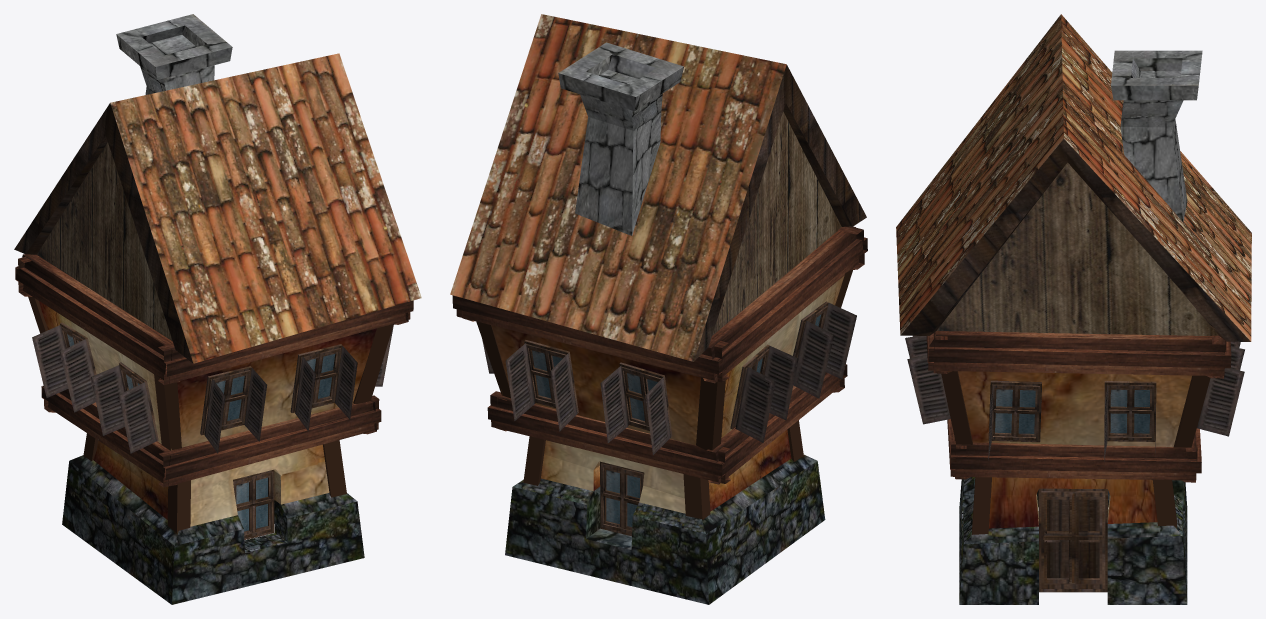
Rendered from HutHouse.fbx.
3 views of the same model, side by side, from view 1: azimuth 30°, elevation 25°; view 2: azimuth 150°, elevation 25°; view 3: azimuth 270°, elevation 25° (orthographic). The views are drawn at different scales.
Parts seen in each view (by area): view 1: HutHouse; view 2: HutHouse; view 3: HutHouse.
Boxes of the visible parts, x1,y1,x2,y2 form: HutHouse: (14, 14, 421, 604); HutHouse: (450, 14, 867, 604); HutHouse: (896, 14, 1251, 604).
Bounding box in the file's own units: 2565 × 2456 × 3915.
